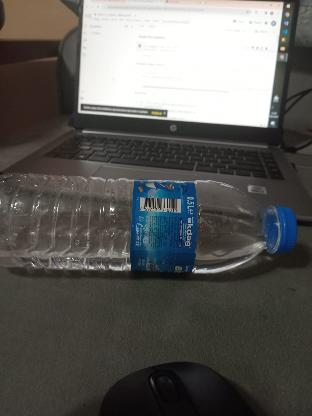Plastic Bottle: (0, 171, 294, 280)
